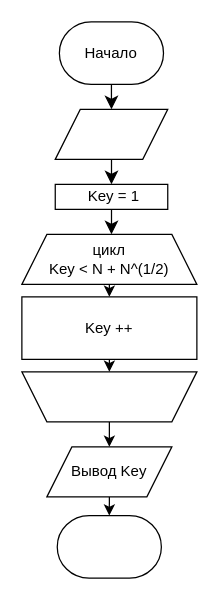
Some shapes in this 219 by 600 pixel diagram are drawn without their labels. Here are the shapes that lost their labels. From the top down, the centre of each, then its label:
[111,133]: Ввод N
[109,396]: цикл
[108,546]: Конец
